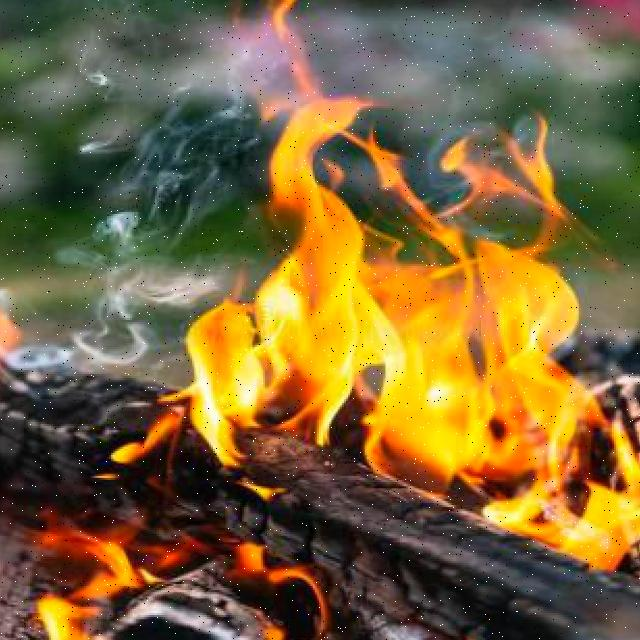fire: (223, 100, 640, 542)
smoke: (3, 44, 265, 380)
